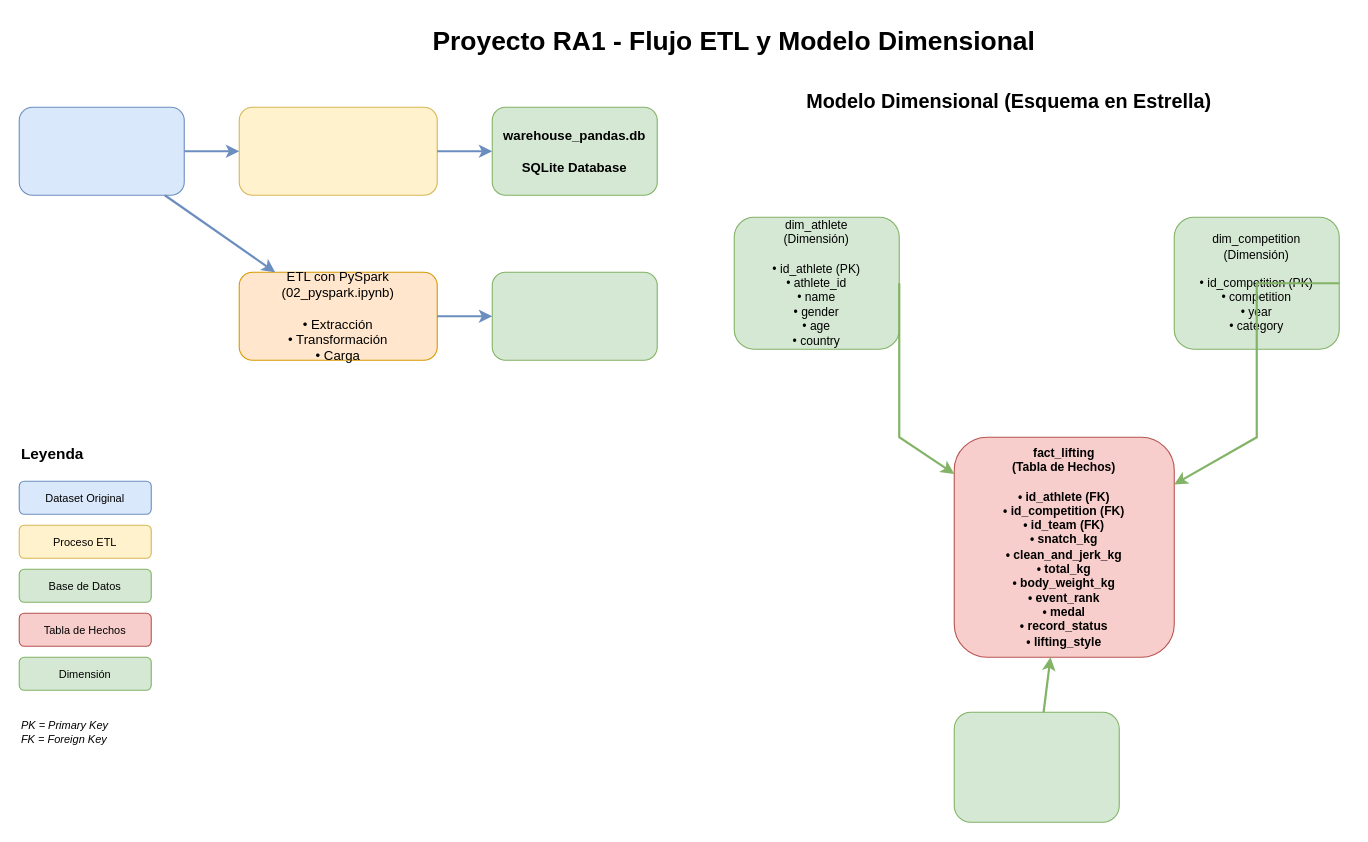
The diagram is 1368 pixels wide and 842 high, and some of its shapes have lost their labels. Here are the shapes that lost their labels. From the top down, the centre of each, then its label:
At [101,150]: "Dataset Original gym_lifters.csv".
At [337,150]: "ETL con Pandas (01_pandas.ipynb) • Extracción • Transformación • Carga".
At [574,315]: "warehouse_pyspark.db SQLite Database".
At [1036,766]: "dim_team (Dimensión) • id_team (PK) • team • coach".
